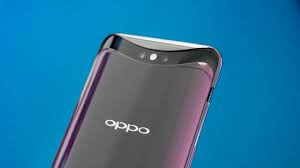oppo: (36, 31, 223, 168)
